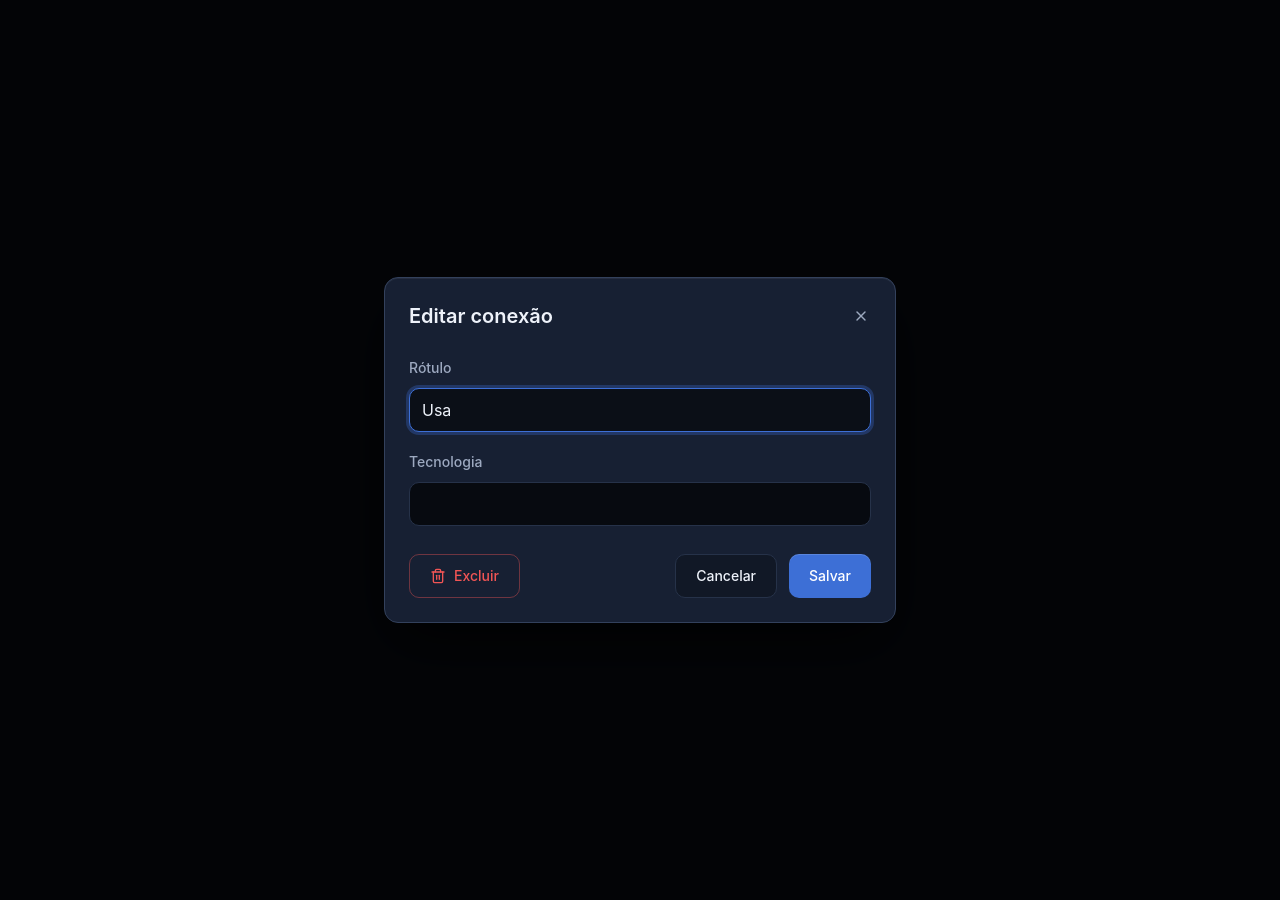
it: ElementFormModal (RF22 - versão mínima) › conexão › deve exigir o rótulo (notação oficial)
Clear the field labelled "Rótulo". click: (640, 410)
box: [409,388,871,432]
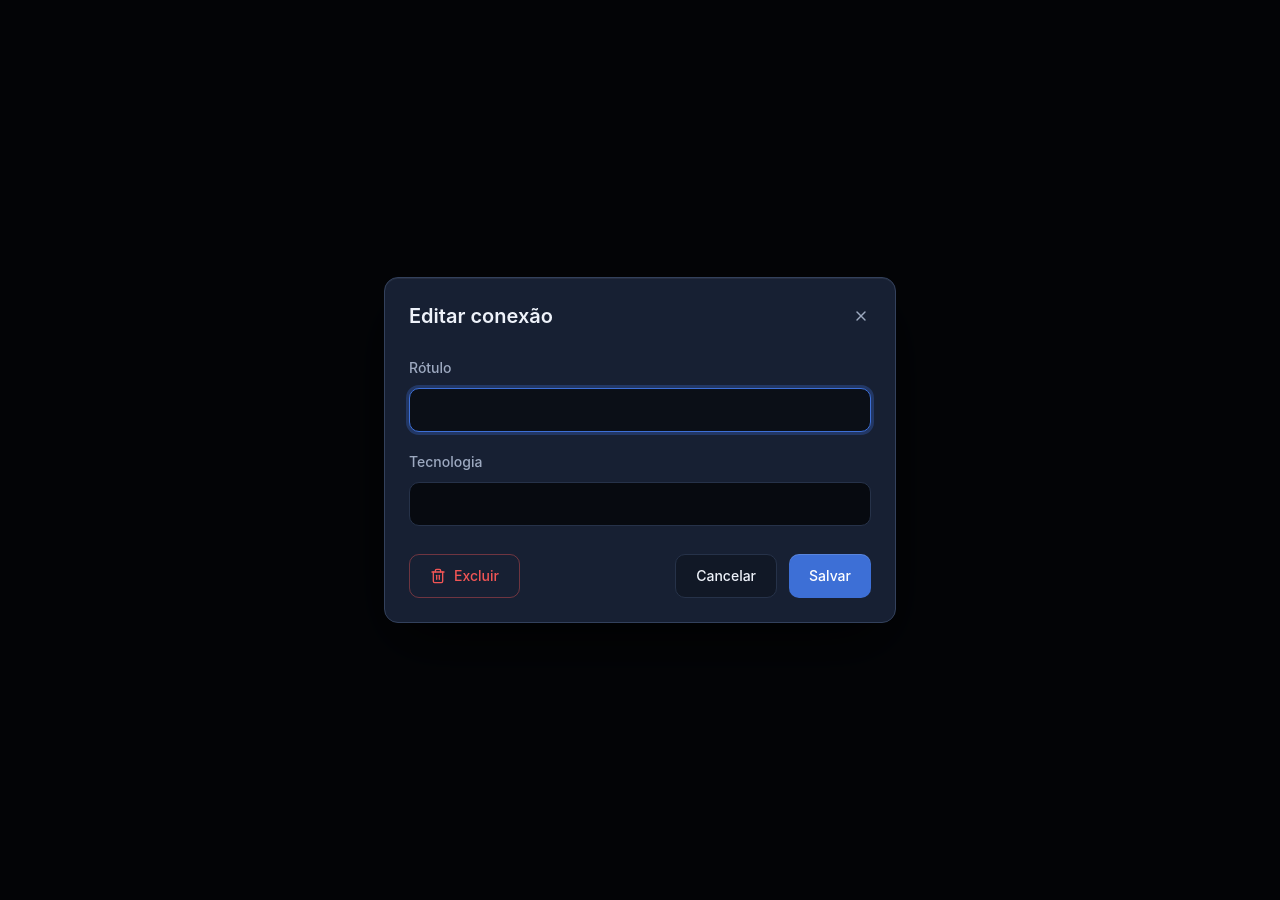
Click the button "Salvar". click: (830, 576)
box: [789,554,871,598]
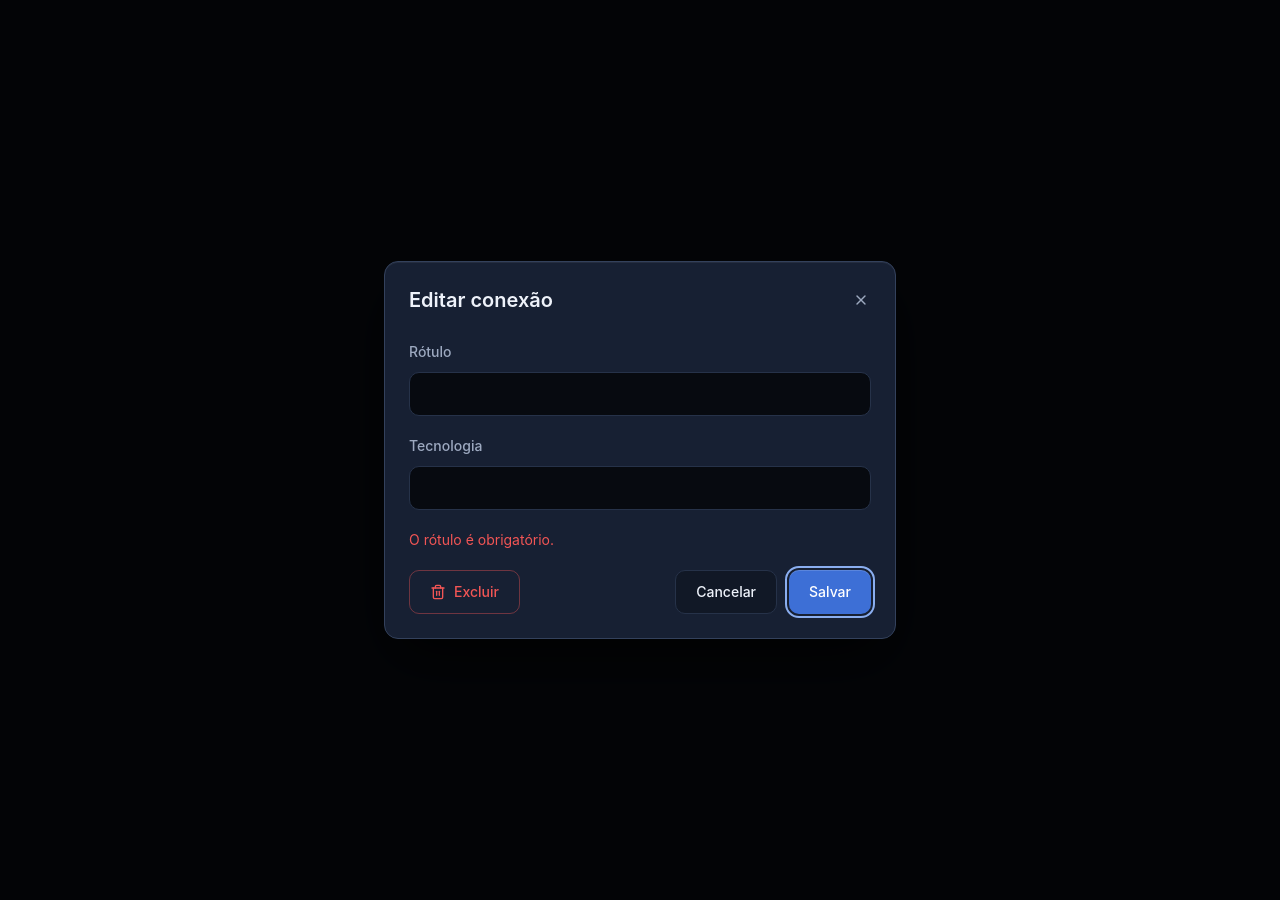
Check: the message reads "O rótulo é obrigatório.", box [409,531,554,548]
